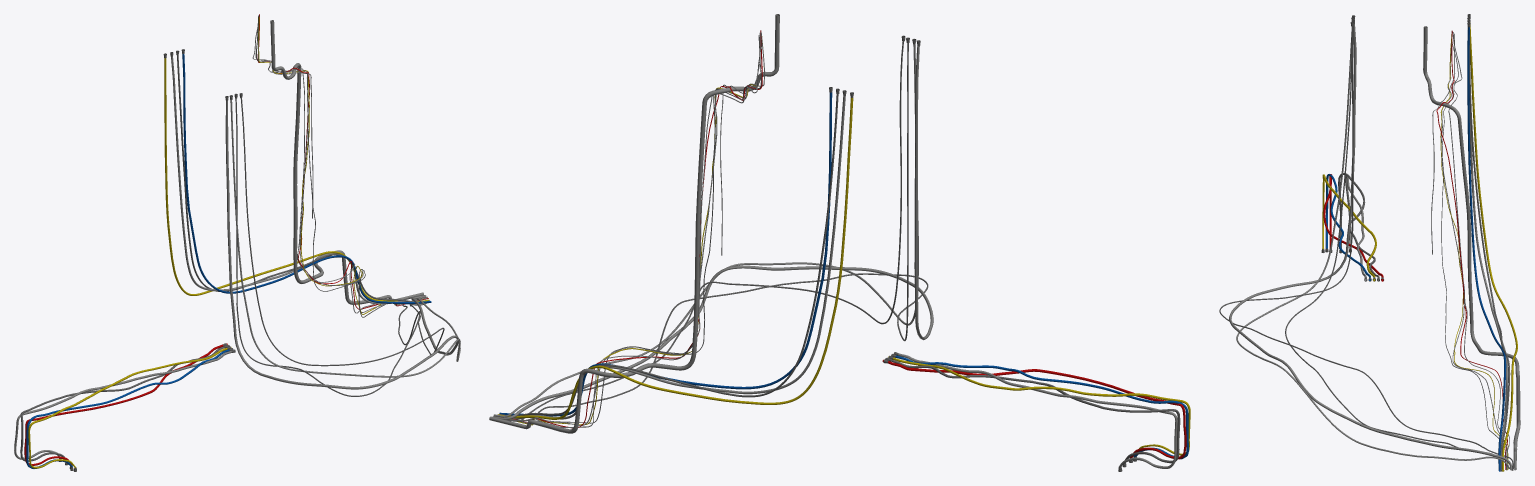
3 renders of one model, left to right at view 1: azimuth 30°, elevation 25°; view 2: azimuth 150°, elevation 25°; view 3: azimuth 270°, elevation 25°, orthographic. The views are drawn at different scales.
Parts seen in each view (by area): view 1: SM_H_Building_FutureTech_HBlack_01_InterWall_04F; view 2: SM_H_Building_FutureTech_HBlack_01_InterWall_04F; view 3: SM_H_Building_FutureTech_HBlack_01_InterWall_04F.
Boxes of the visible parts, x1,y1,x2,y2 form: SM_H_Building_FutureTech_HBlack_01_InterWall_04F: (14, 14, 460, 471); SM_H_Building_FutureTech_HBlack_01_InterWall_04F: (489, 14, 1190, 471); SM_H_Building_FutureTech_HBlack_01_InterWall_04F: (1219, 14, 1520, 471).
Size of the model in its own units: 239 by 445 by 309.
